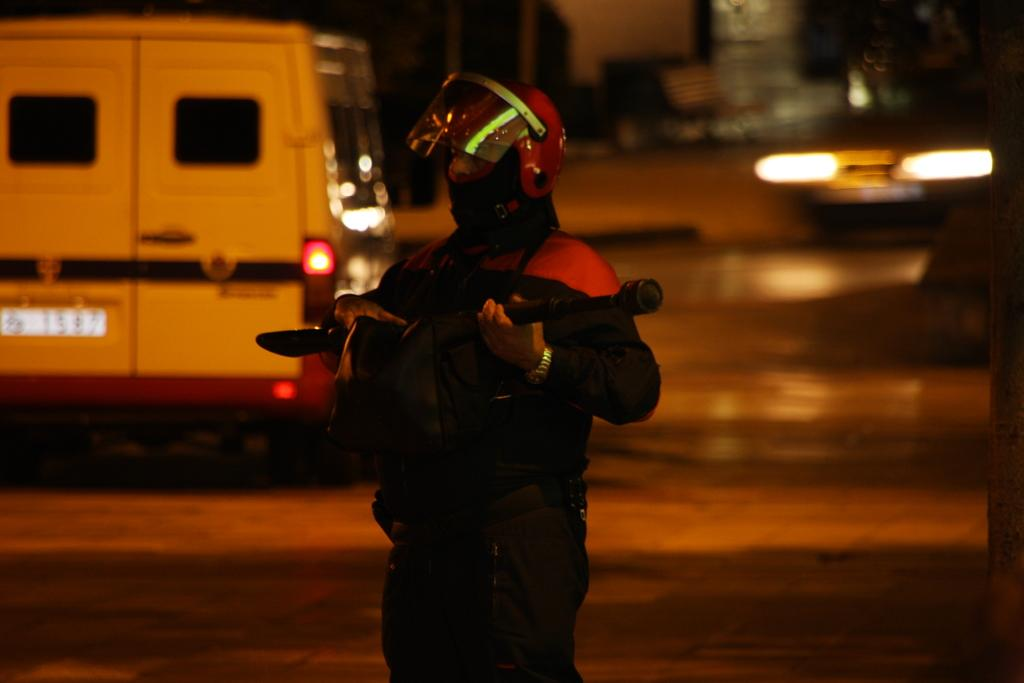helmet: (405, 72, 567, 203)
